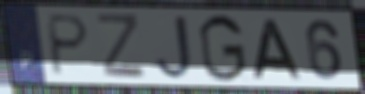6: (304, 17, 346, 83)
A: (251, 17, 305, 81)
G: (196, 12, 249, 84)
J: (153, 13, 195, 82)
P: (46, 12, 92, 78)
Z: (95, 12, 148, 82)
